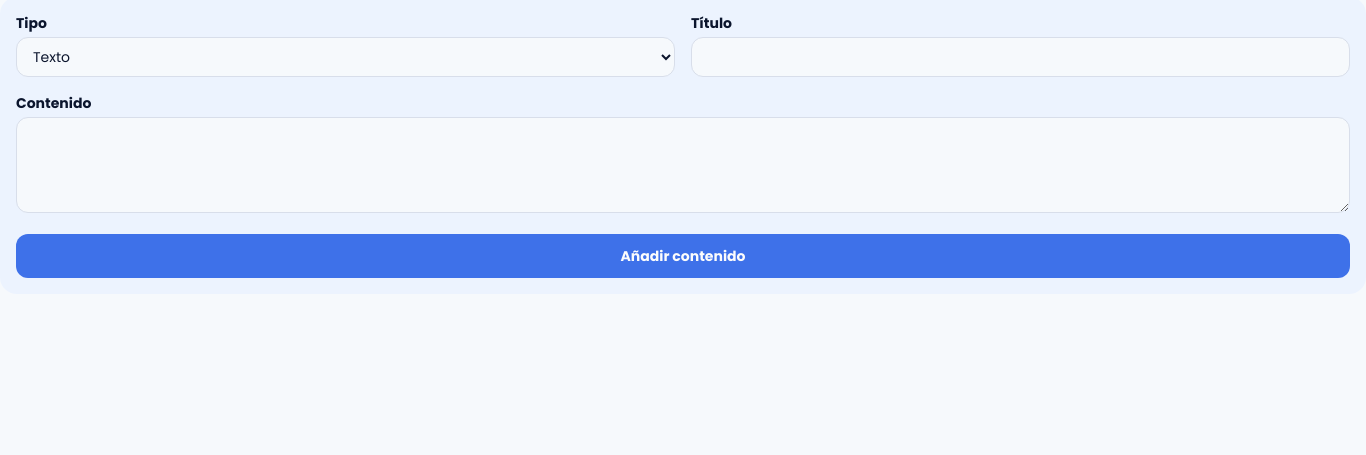
Test: formulario de contenido de grupo › muestra solamente los campos de assignment
This screenshot has width=1366, height=455.
Select "Entrega" in the dropdown labelled "Tipo": (346, 57) [16,37,675,77]
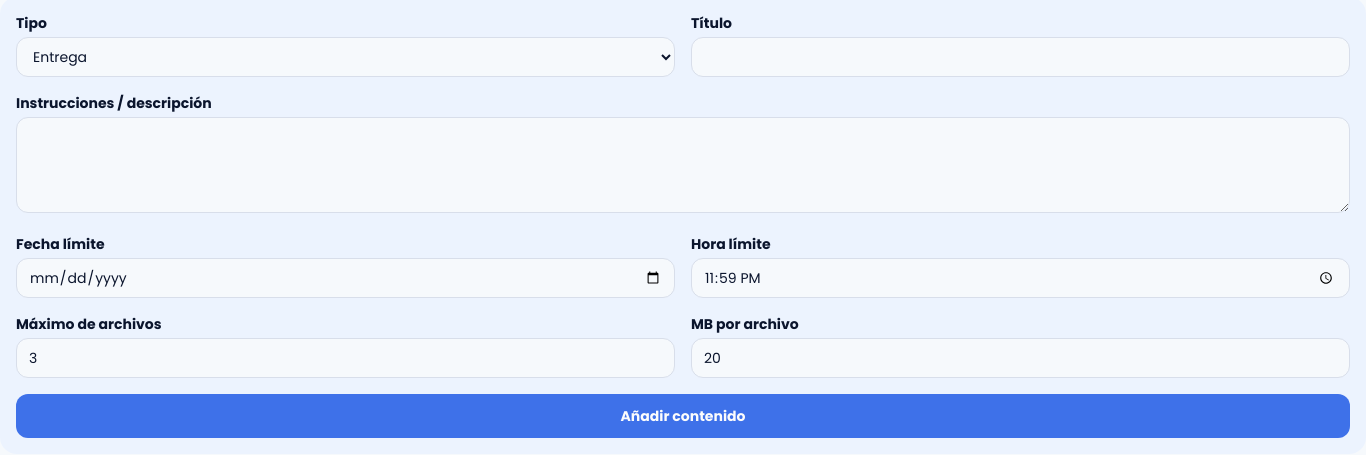
expect the date field labelled "Fecha límite" is shown: met, box [16,258,675,298]
expect the time field labelled "Hora límite" is shown: met, box [691,258,1350,298]
expect the number field labelled "Máximo de archivos" is shown: met, box [16,338,675,378]
